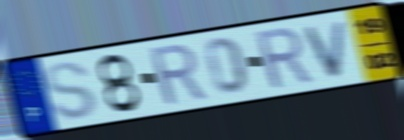0: (204, 35, 252, 98)
8: (97, 52, 142, 115)
R: (251, 24, 316, 92), (145, 41, 210, 109)
S: (42, 60, 100, 122)
V: (301, 17, 350, 81)
